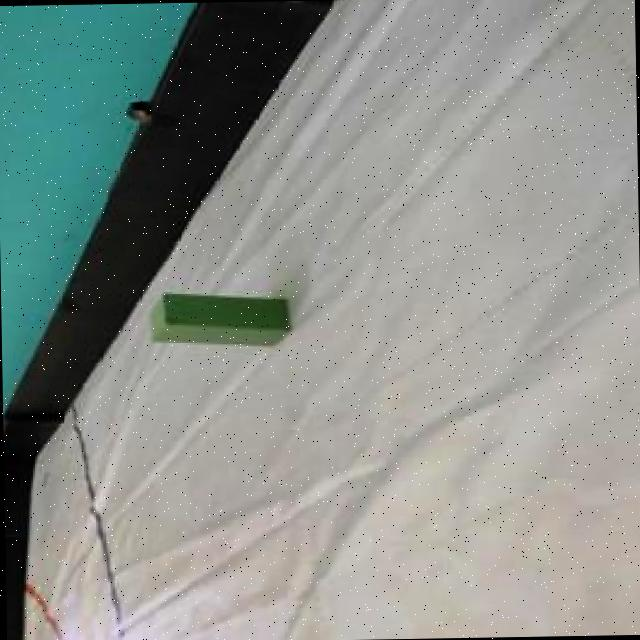greenbox: (142, 287, 292, 346)
